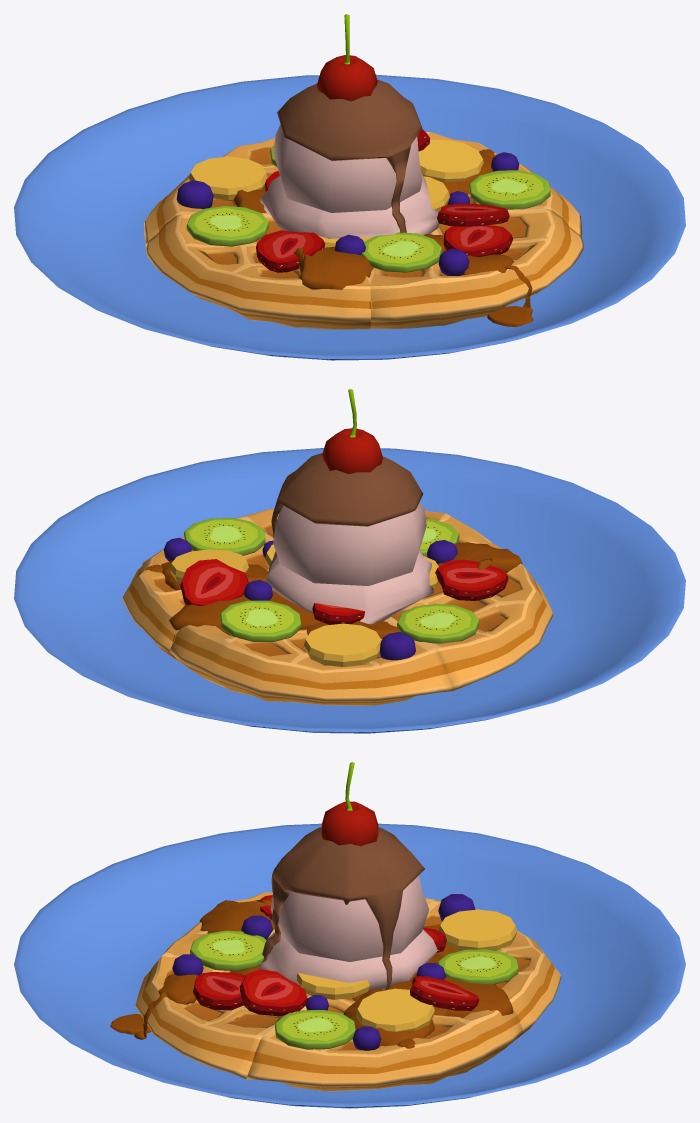
3 renders of one model, top to bottom at view 1: azimuth 30°, elevation 25°; view 2: azimuth 150°, elevation 25°; view 3: azimuth 270°, elevation 25°, orthographic.
Parts seen in each view (by area): view 1: Cylinder, WAFFLE, Dondurma, sos, Circle.001, Circle.002, Circle.003, 8.003, Kiraz, Cylinder.001, Cylinder.004, Circle.004 (+9 smaller); view 2: Cylinder, WAFFLE, Dondurma, sos, Circle.007, Cylinder.001, Circle.001, Circle.005, Kiraz, Circle.002, Circle.004, 8.001 (+7 smaller); view 3: Cylinder, WAFFLE, Dondurma, sos, Circle.002, Cylinder.001, Cylinder.004, Circle.003, Circle.008, Kiraz, Circle.007, Circle.013 (+11 smaller).
Part boxes in pixels (x1,y1,x2,y2): Cylinder: (14,74,685,360); WAFFLE: (144,132,583,329); Dondurma: (260,124,439,238); sos: (277,79,422,233); Circle.001: (186,205,268,246); Circle.002: (469,170,550,209); Circle.003: (361,232,441,272); 8.003: (293,246,373,290); Kiraz: (317,14,377,101); Cylinder.001: (189,156,267,200); Cylinder.004: (418,139,483,182); Circle.004: (256,230,325,272); Cylinder: (14,448,685,733); WAFFLE: (122,508,553,705); Dondurma: (265,502,434,624); sos: (268,453,423,572); Circle.007: (220,600,301,641); Cylinder.001: (304,623,381,666); Circle.001: (397,603,479,643); Circle.005: (180,559,248,605); Kiraz: (322,389,382,474); Circle.002: (184,518,265,555); Circle.004: (435,559,508,600); 8.001: (169,590,320,635); Cylinder: (14,823,685,1108); WAFFLE: (135,892,561,1091); Dondurma: (259,875,437,990); sos: (261,827,424,990); Circle.002: (275,1009,355,1049); Cylinder.001: (438,909,517,950); Cylinder.004: (356,988,434,1032); Circle.003: (190,930,266,971); Circle.008: (239,969,307,1016); Kiraz: (321,762,378,846); Circle.007: (437,949,518,984); Circle.013: (193,972,245,1010).
Size of the model in its own units: 423 by 169 by 423.
